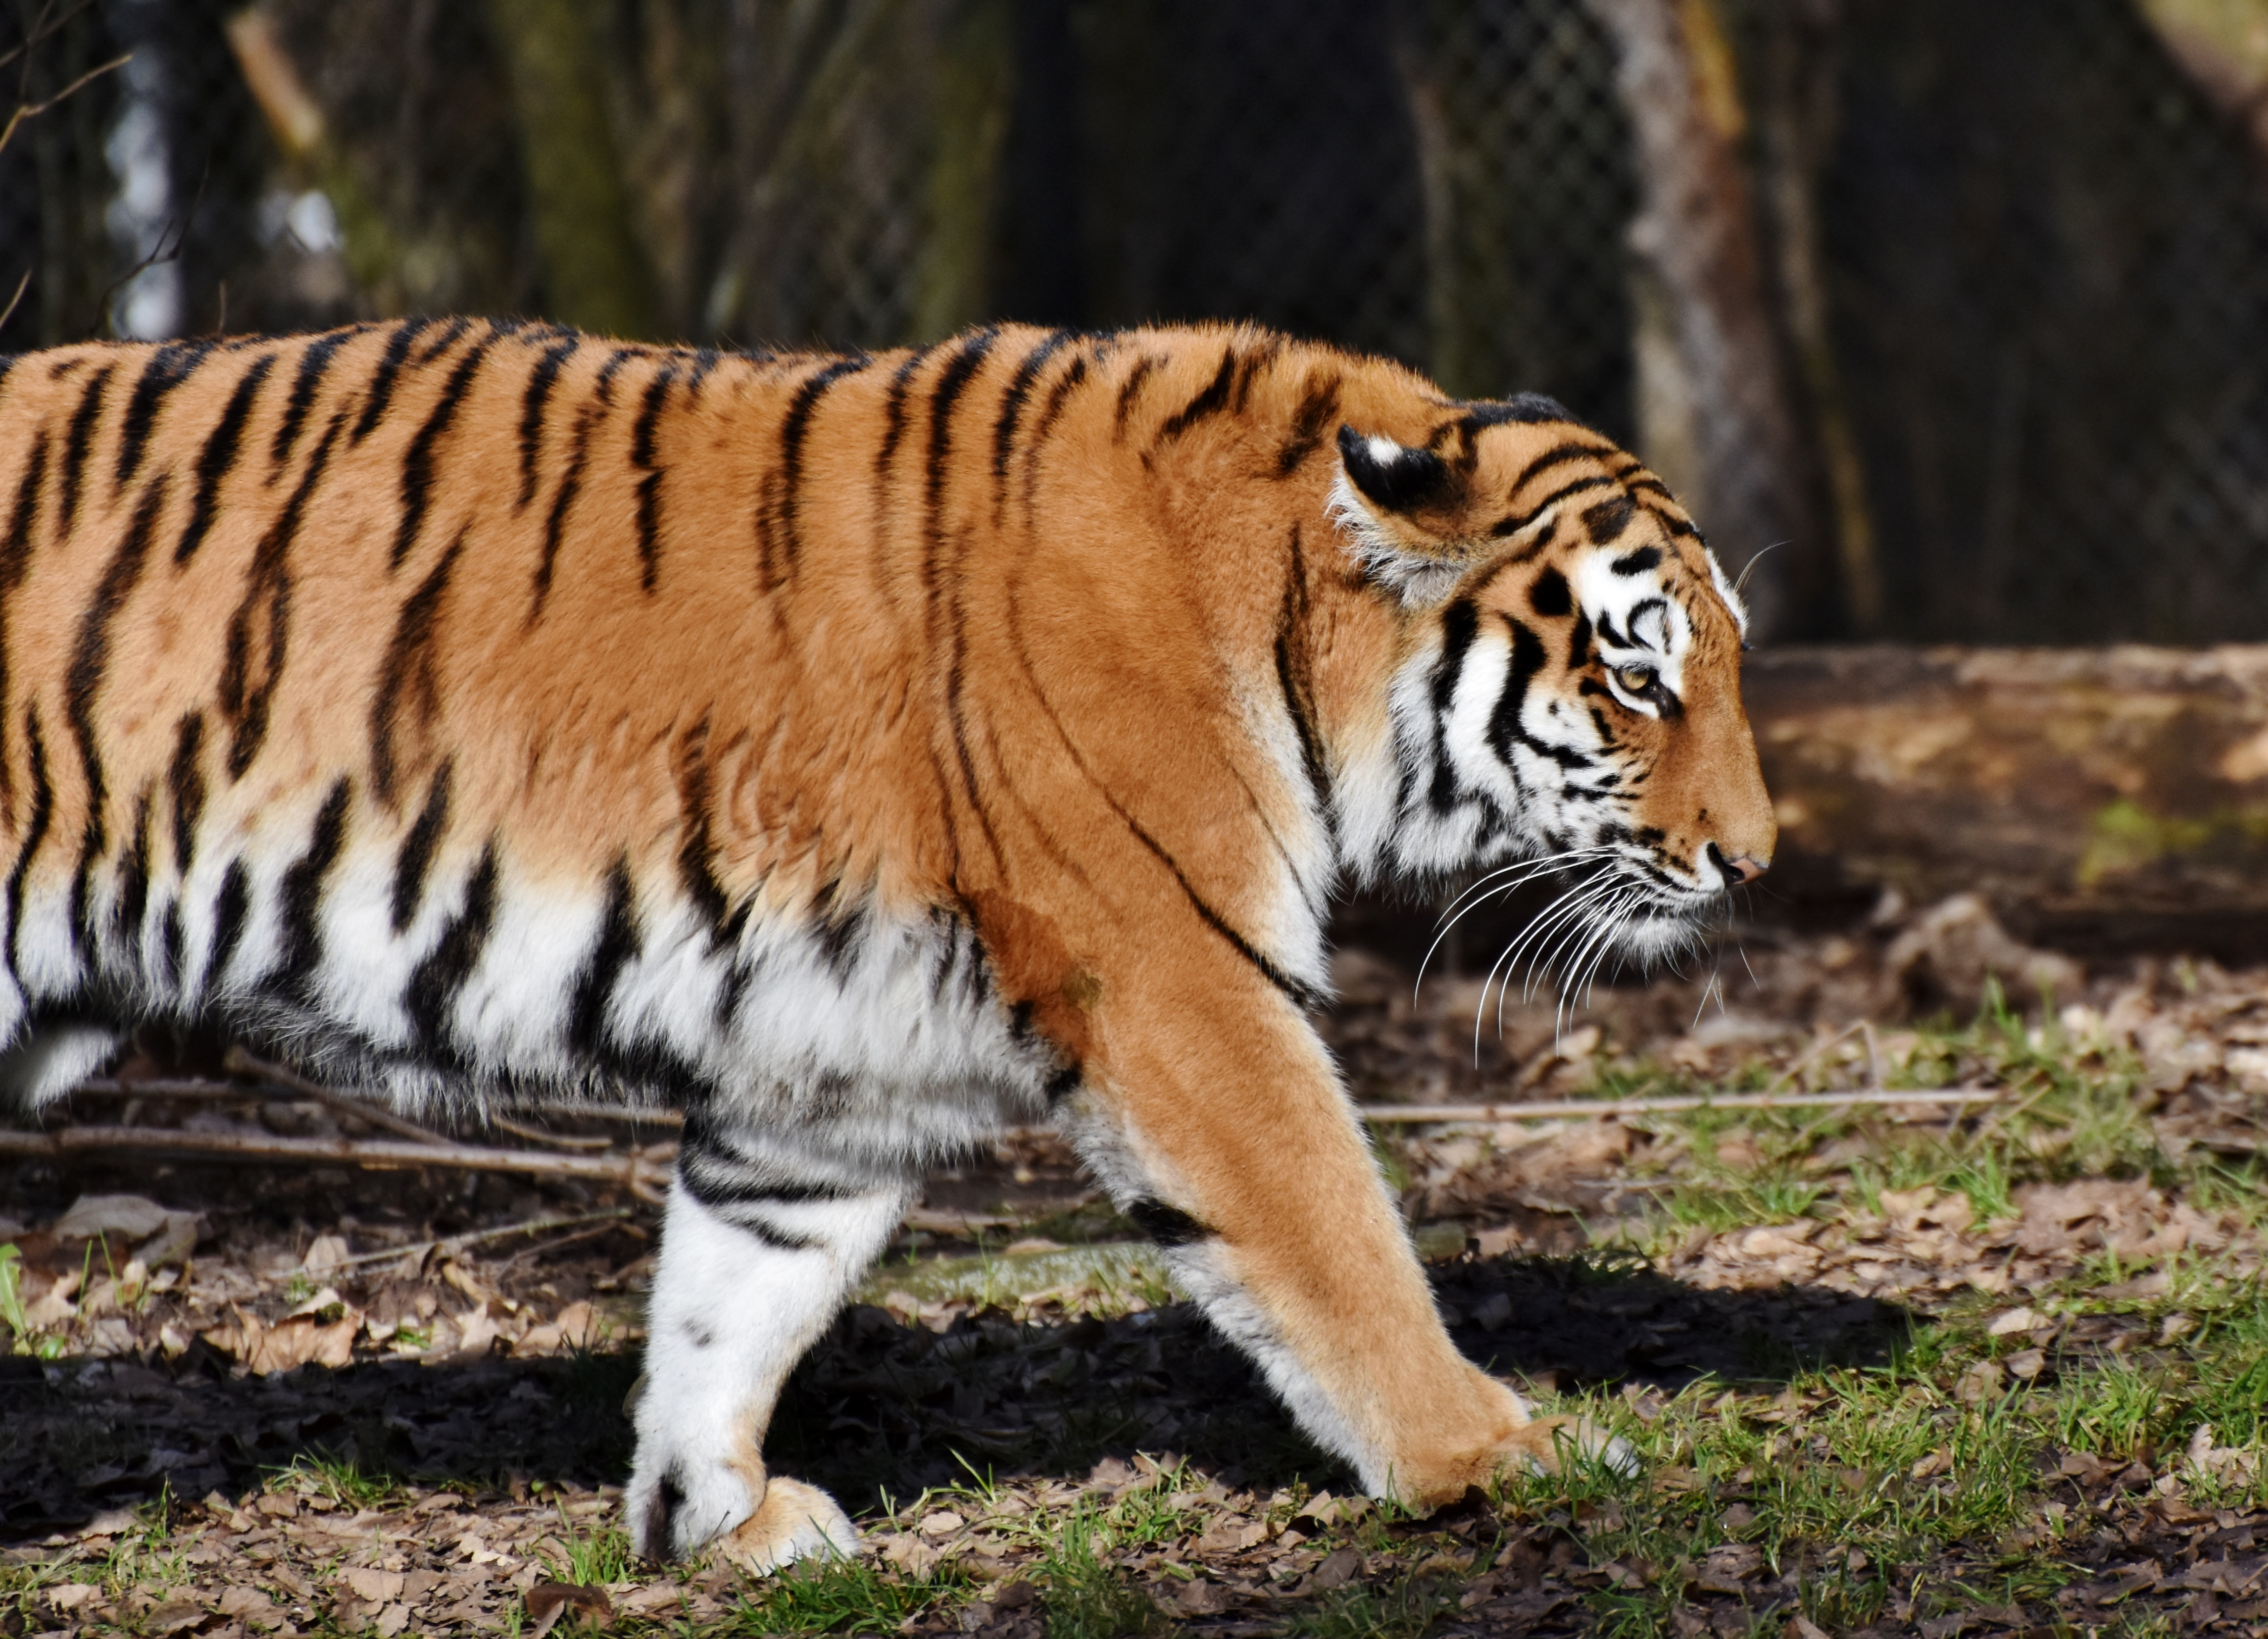tiger: (63, 287, 1706, 1486)
